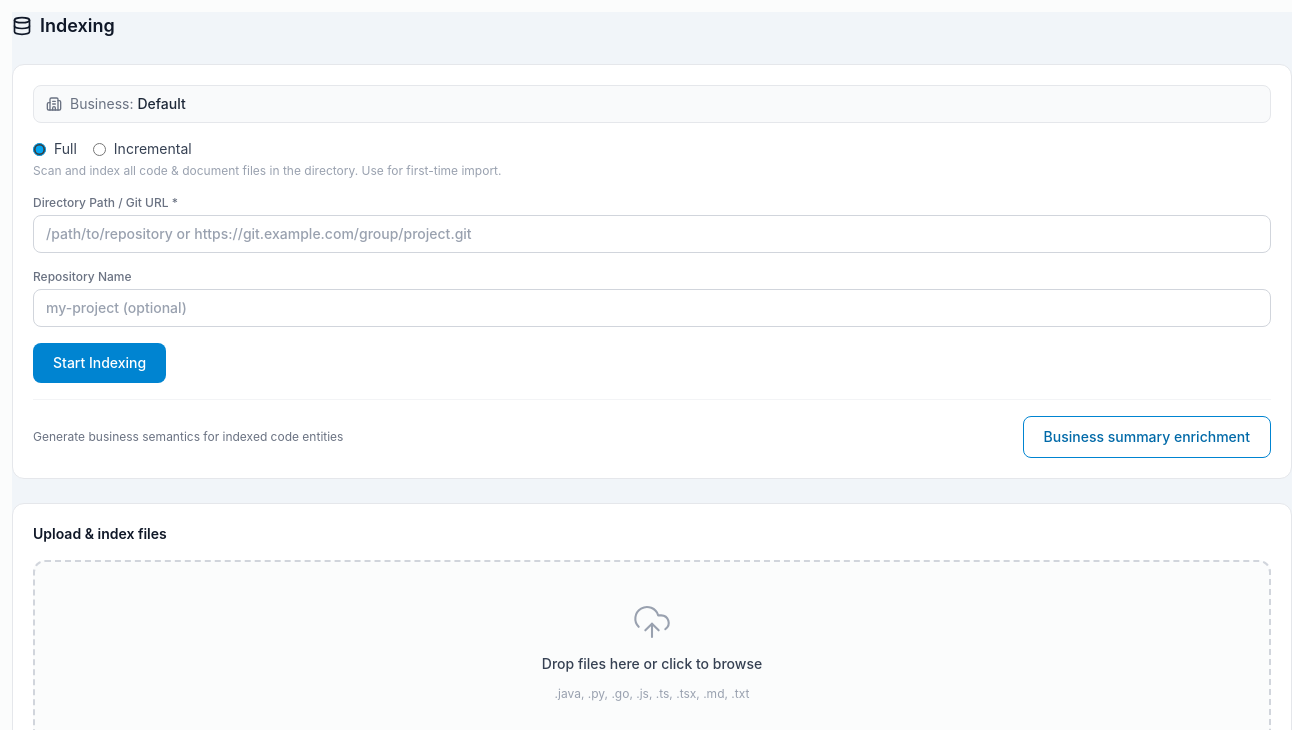
Scenario: Indexing › switches to incremental indexing mode
Click the radio button labelled "Incremental": click(99, 149) [93,142,106,156]
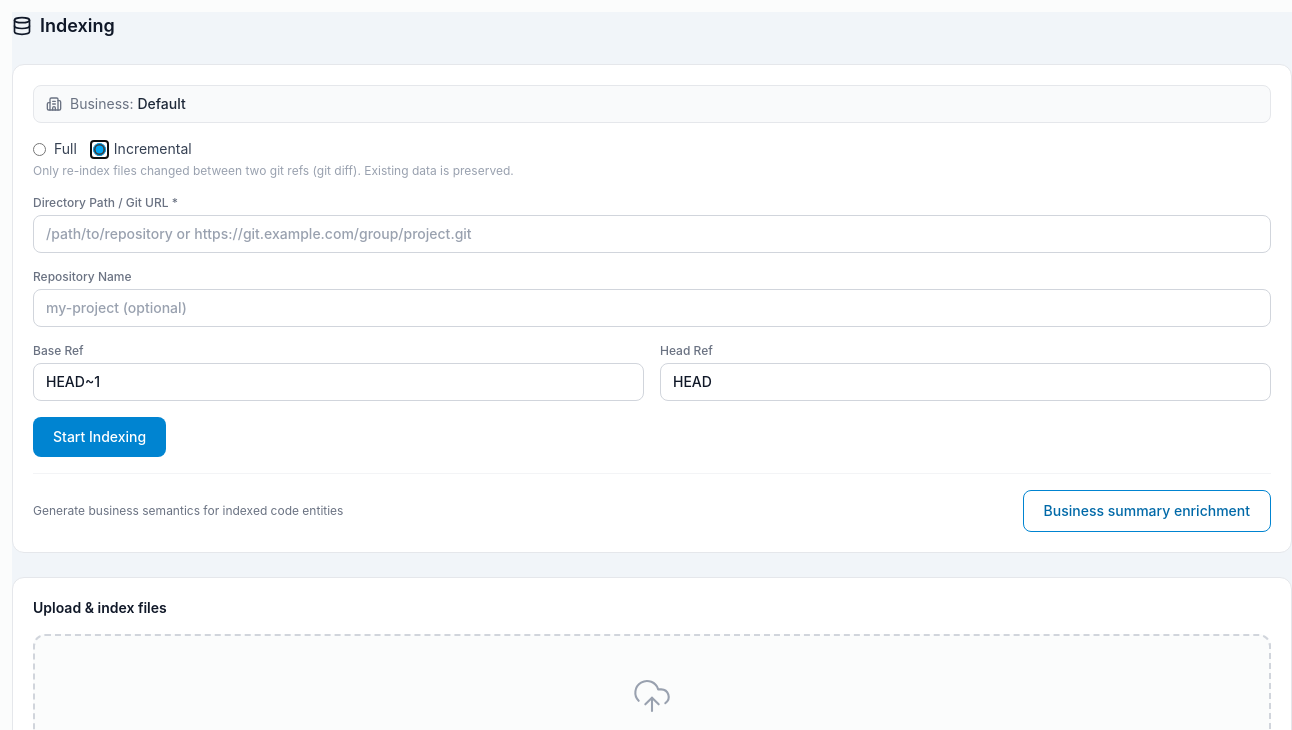
Now the field labelled "Base Ref" is shown, box [33,363,644,401]
Now the field labelled "Head Ref" is shown, box [660,363,1271,401]
